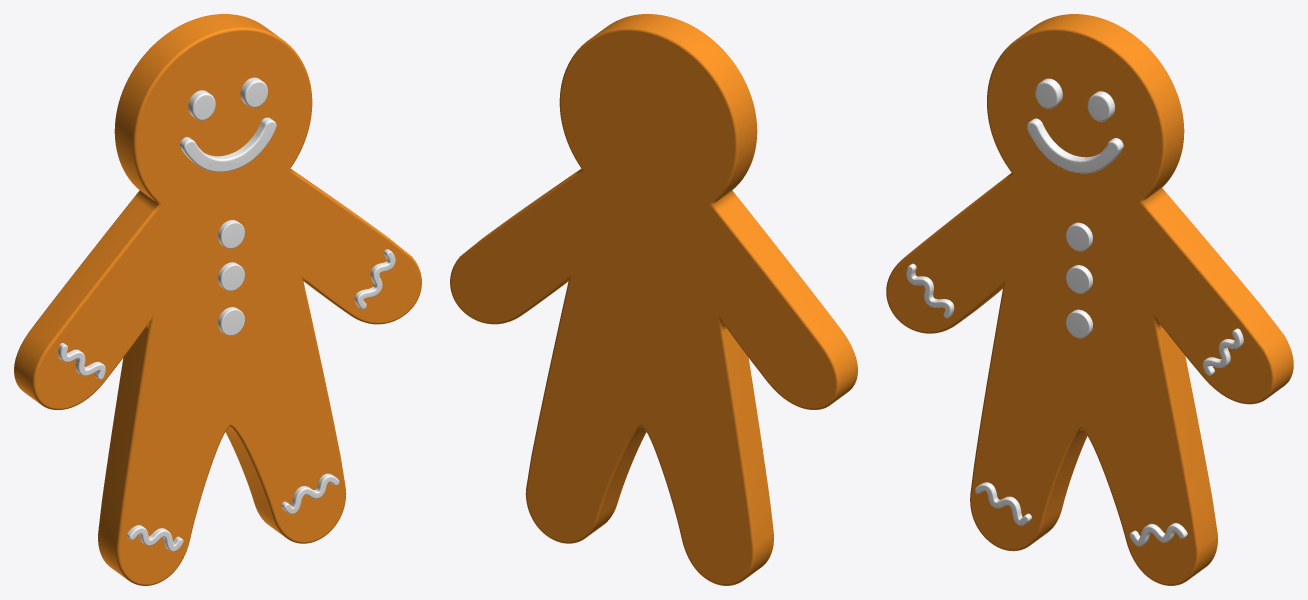
The model's file is ginger.glb.
3 views of the same model, side by side, from view 1: azimuth 30°, elevation 25°; view 2: azimuth 150°, elevation 25°; view 3: azimuth 330°, elevation 25° (orthographic).
Visible parts, largest first — view 1: Curve.001; view 2: Curve.001; view 3: Curve.001.
Boxes of the visible parts, bbox=[...] form: Curve.001: bbox=[14, 14, 421, 585]; Curve.001: bbox=[450, 14, 857, 585]; Curve.001: bbox=[886, 14, 1293, 585].
Size of the model in its own units: 3.64 by 4.8 by 0.4157.
